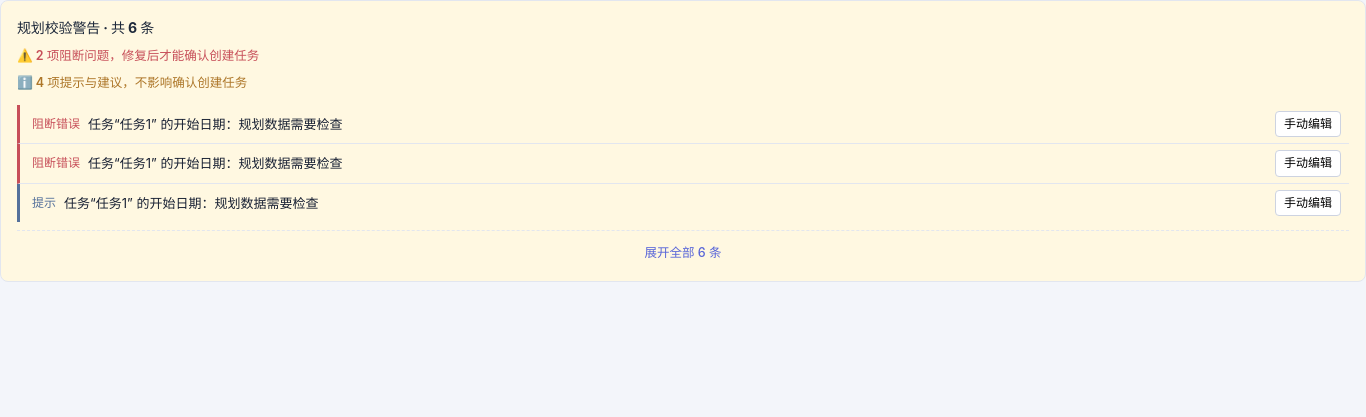
it: PlanningIssuePanel › expands all issues on click and allows collapsing back to 3
Check: the number of elements with class "issue-item" is 3, box [17,104,1349,144]; [17,144,1349,184]; [17,184,1349,222]
# Click expand
Click the button with test id "expand-all-issues" at (683, 253), box [632,239,734,267]
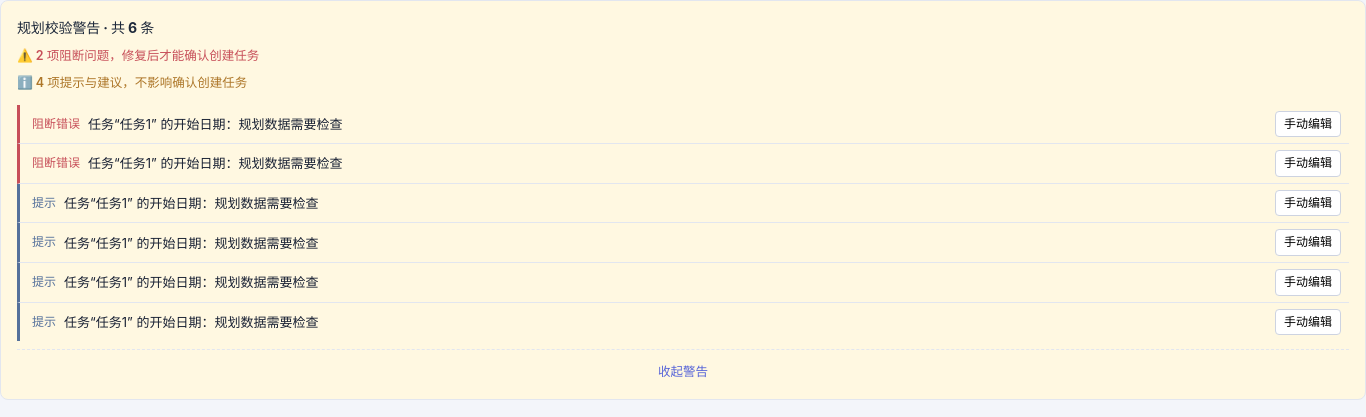
Check: the number of elements with class "issue-item" is 6, box [17,104,1349,144]; [17,144,1349,184]; [17,184,1349,223]; [17,223,1349,263]; [17,263,1349,302]; [17,302,1349,341]
Check: the button with test id "collapse-issues" is shown
Check: the button with test id "collapse-issues" reads "收起警告"
# Click collapse
Click the button with test id "collapse-issues" at (683, 372), box [646,358,720,386]
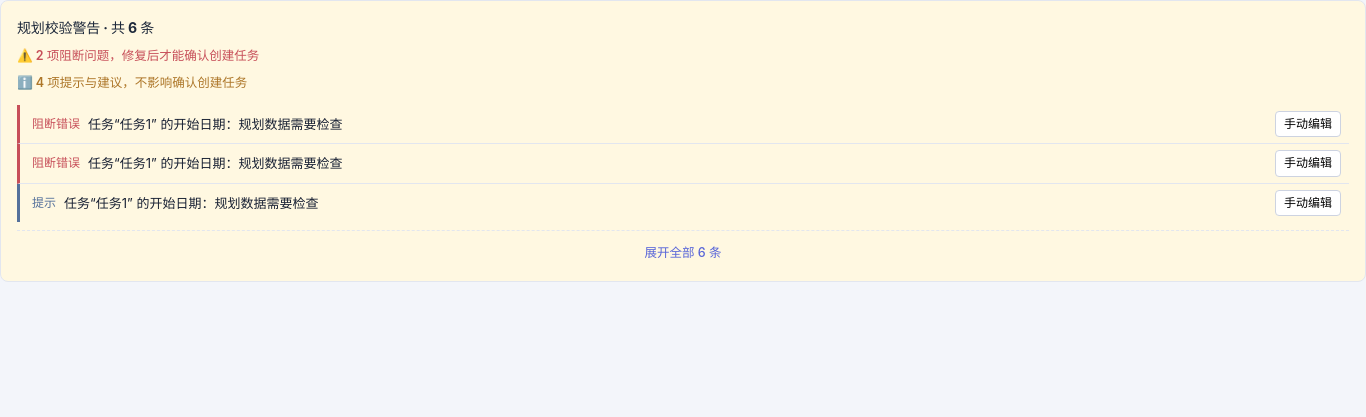
Check: the number of elements with class "issue-item" is 3, box [17,104,1349,144]; [17,144,1349,184]; [17,184,1349,222]
Check: the button with test id "expand-all-issues" is shown, box [632,239,734,267]
